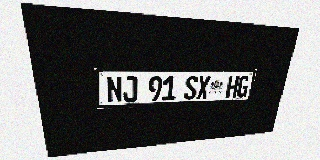1: (162, 76, 177, 101)
9: (148, 76, 163, 101)
G: (236, 75, 250, 97)
H: (225, 75, 240, 98)
J: (122, 76, 137, 102)
N: (106, 76, 122, 103)
S: (184, 76, 198, 100)
X: (196, 76, 211, 99)
